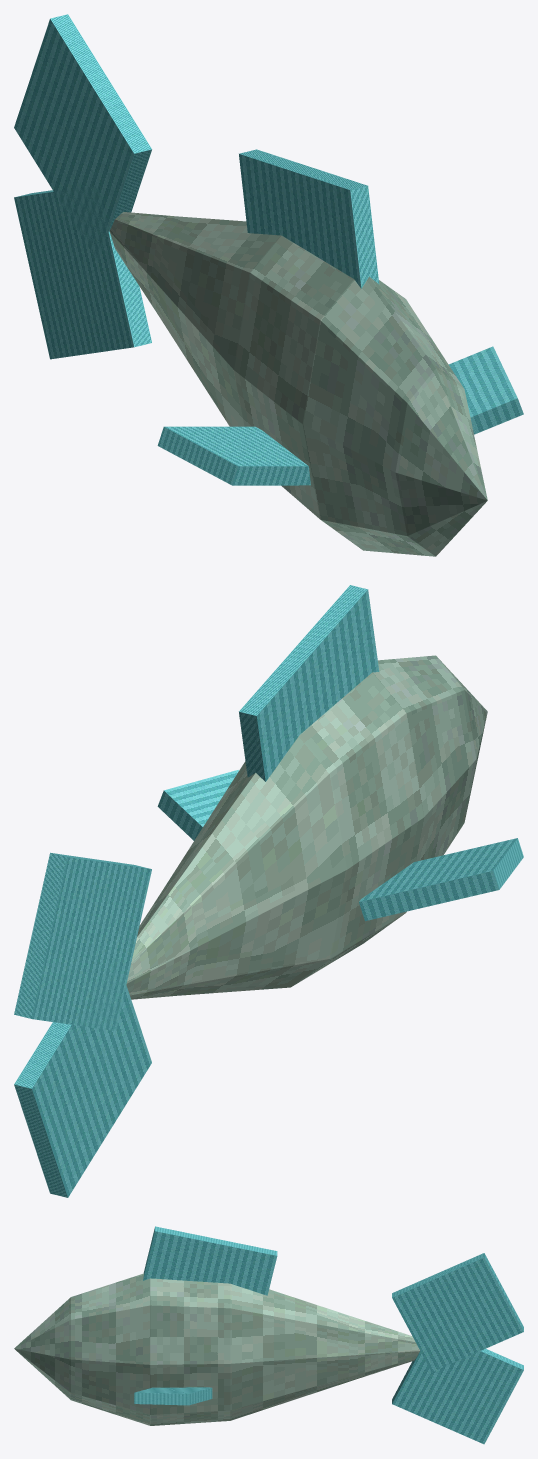
Rendered from truta.glb.
The picture shows the model from 3 angles, top to bottom: view 1: azimuth 30°, elevation 25°; view 2: azimuth 150°, elevation 25°; view 3: azimuth 270°, elevation 25°; orthographic projection. The views are drawn at different scales.
Parts seen in each view (by area): view 1: truta; view 2: truta; view 3: truta.
Part boxes in pixels (x1,y1,x2,y2): truta: (14, 14, 523, 556); truta: (14, 585, 523, 1197); truta: (14, 1226, 523, 1444).
Bounding box in the file's own units: 0.3612 × 0.3928 × 0.851.
1 material, 1 textured.
